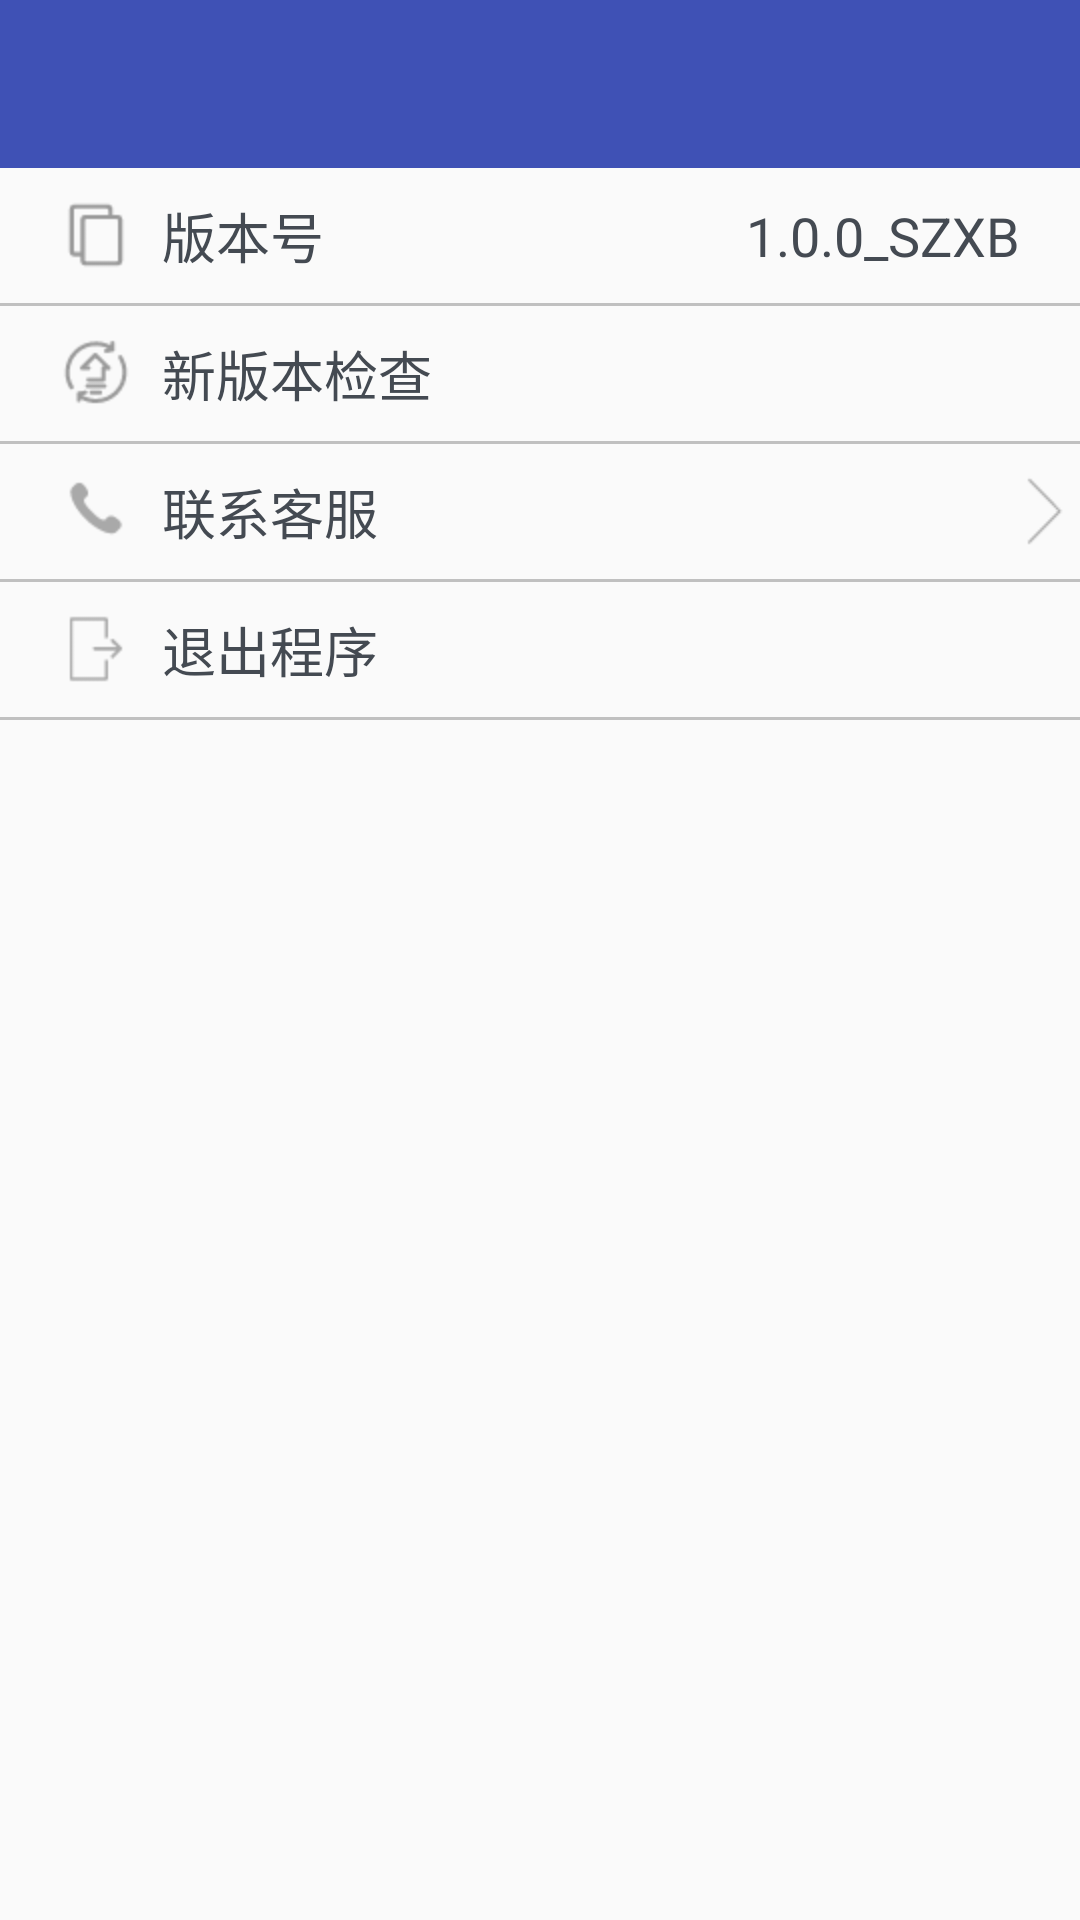

Icon click points for this 1080px×1920px phone screenshot, format [x,y]:
dangqianbanben: [96,235]
jiantou: [1044,511]
out: [96,649]
phone: [96,508]
soft update: [96,372]
